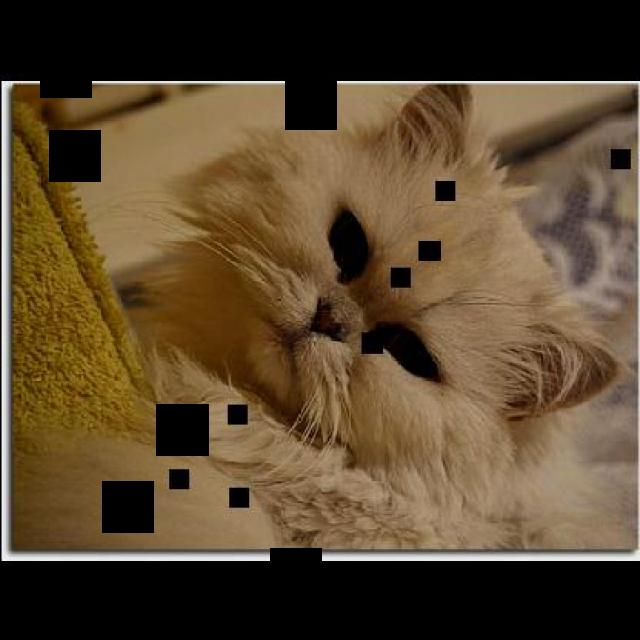unauthorized: (114, 83, 635, 549)
